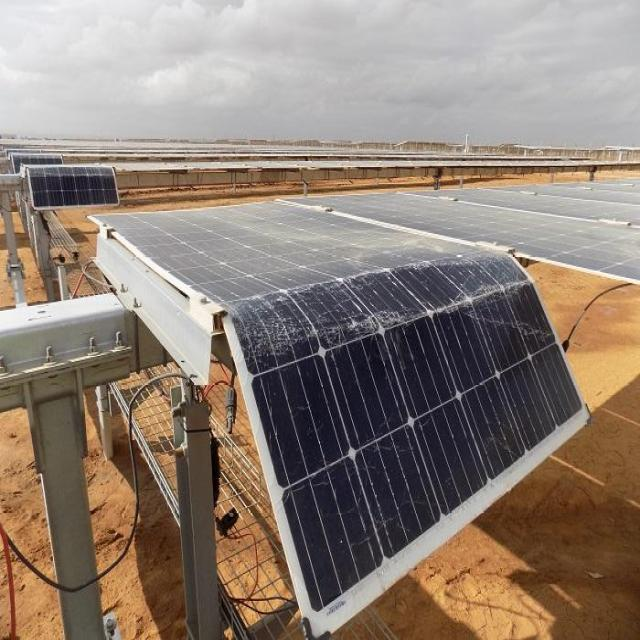Dusty: (97, 201, 472, 304), (283, 192, 640, 285), (406, 189, 640, 225), (486, 177, 640, 205)
Physical-damage: (223, 245, 583, 613), (242, 316, 330, 360), (447, 271, 529, 309), (345, 304, 417, 333), (441, 254, 509, 268)
